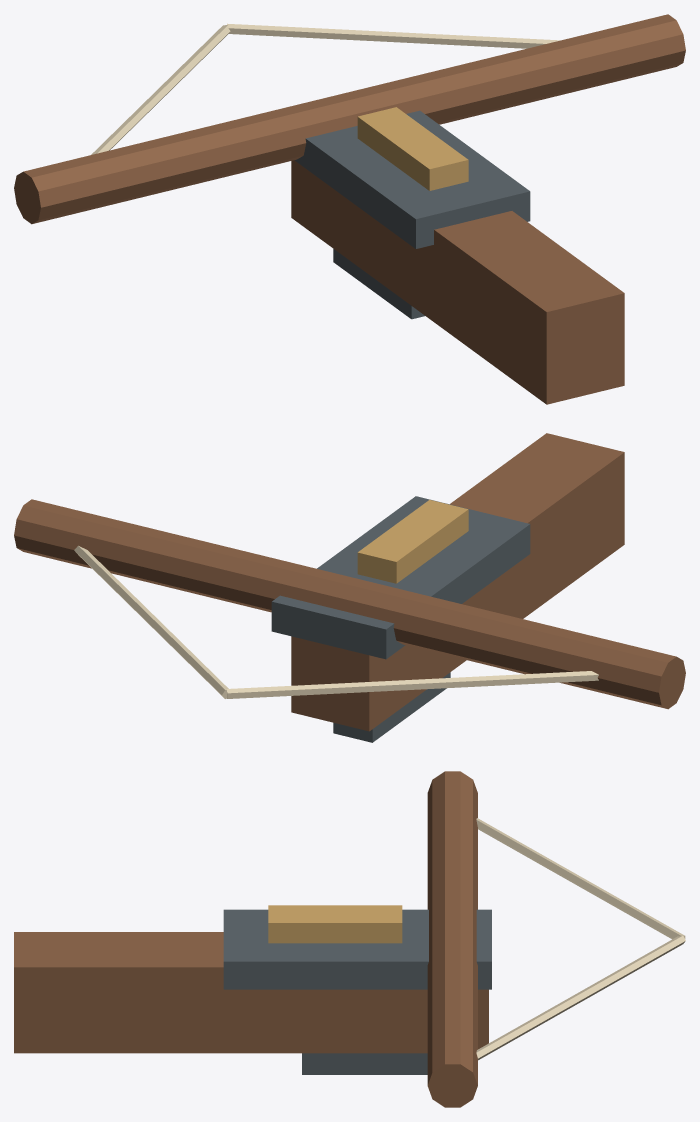
The model's file is ash-crossbow.glb.
3 renders of one model, top to bottom at view 1: azimuth 30°, elevation 25°; view 2: azimuth 150°, elevation 25°; view 3: azimuth 270°, elevation 25°, orthographic. The views are drawn at different scales.
Visible parts, largest first — view 1: ReceiverGeometry, BoltGeometry; view 2: ReceiverGeometry, BoltGeometry; view 3: ReceiverGeometry, BoltGeometry.
Part boxes in pixels (x1,y1,x2,y2): ReceiverGeometry: (14, 14, 685, 404); BoltGeometry: (333, 249, 424, 319); ReceiverGeometry: (14, 433, 685, 731); BoltGeometry: (333, 672, 450, 742); ReceiverGeometry: (14, 771, 685, 1107); BoltGeometry: (302, 1053, 427, 1074).
Bounding box in the file's own units: 1.24 × 0.3 × 1.2.
